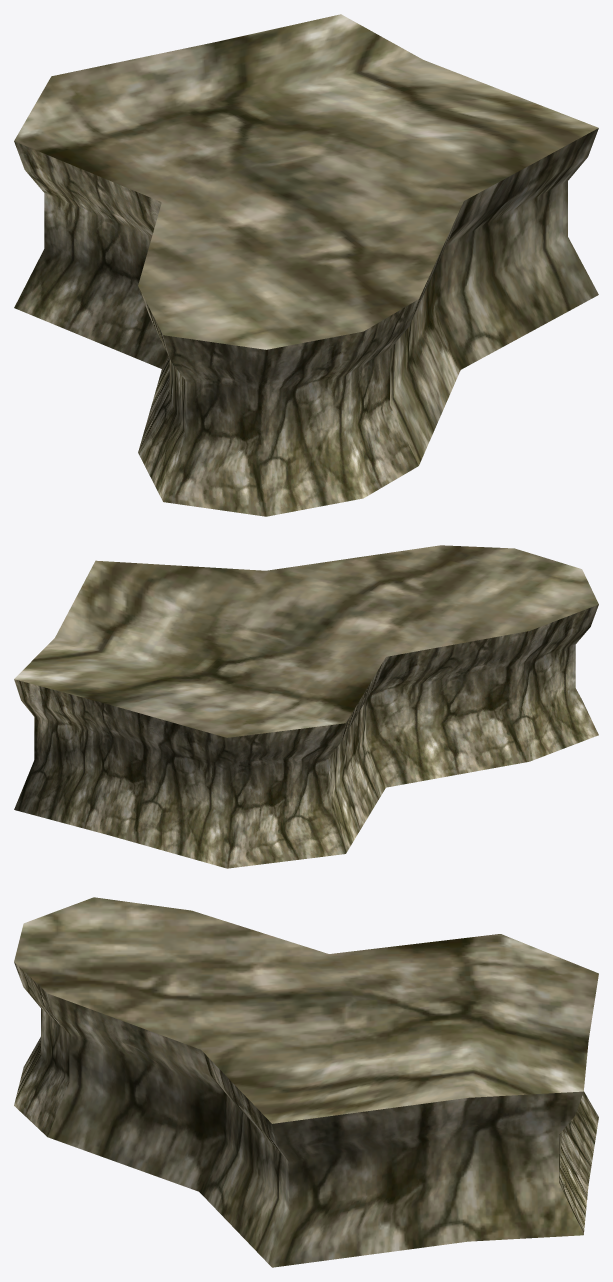
Rendered from CB_NEWPLAYSURFACE_CB_PLAYSURFACE154.fbx.
The picture shows the model from 3 angles, top to bottom: view 1: azimuth 30°, elevation 25°; view 2: azimuth 150°, elevation 25°; view 3: azimuth 270°, elevation 25°; orthographic projection. The views are drawn at different scales.
Parts seen in each view (by area): view 1: CB_NEWPLAYSURFACE_CB_PLAYSURFACE154; view 2: CB_NEWPLAYSURFACE_CB_PLAYSURFACE154; view 3: CB_NEWPLAYSURFACE_CB_PLAYSURFACE154.
Boxes of the visible parts, <box> form: CB_NEWPLAYSURFACE_CB_PLAYSURFACE154: <box>14,14,598,516</box>; CB_NEWPLAYSURFACE_CB_PLAYSURFACE154: <box>14,545,598,868</box>; CB_NEWPLAYSURFACE_CB_PLAYSURFACE154: <box>14,897,598,1267</box>.
Bounding box in the file's own units: 118367 × 35021 × 129110.
Materials: 2 (2 with a texture image).
